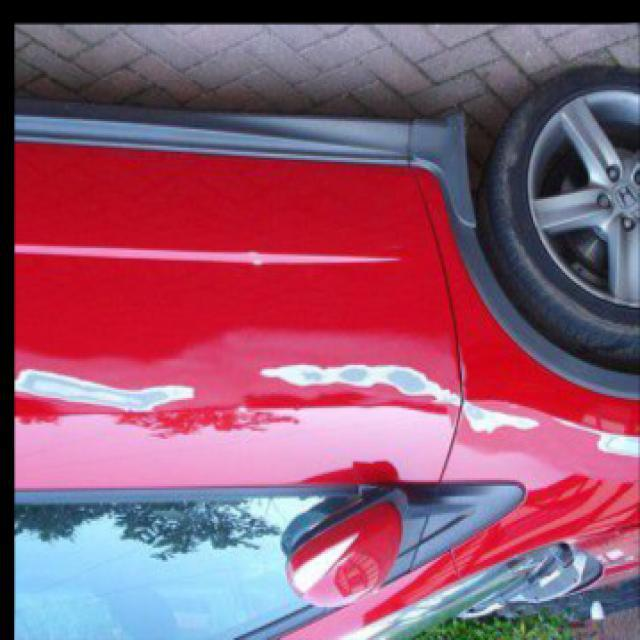scratch: (248, 352, 544, 448), (15, 358, 202, 418), (560, 407, 640, 463)
